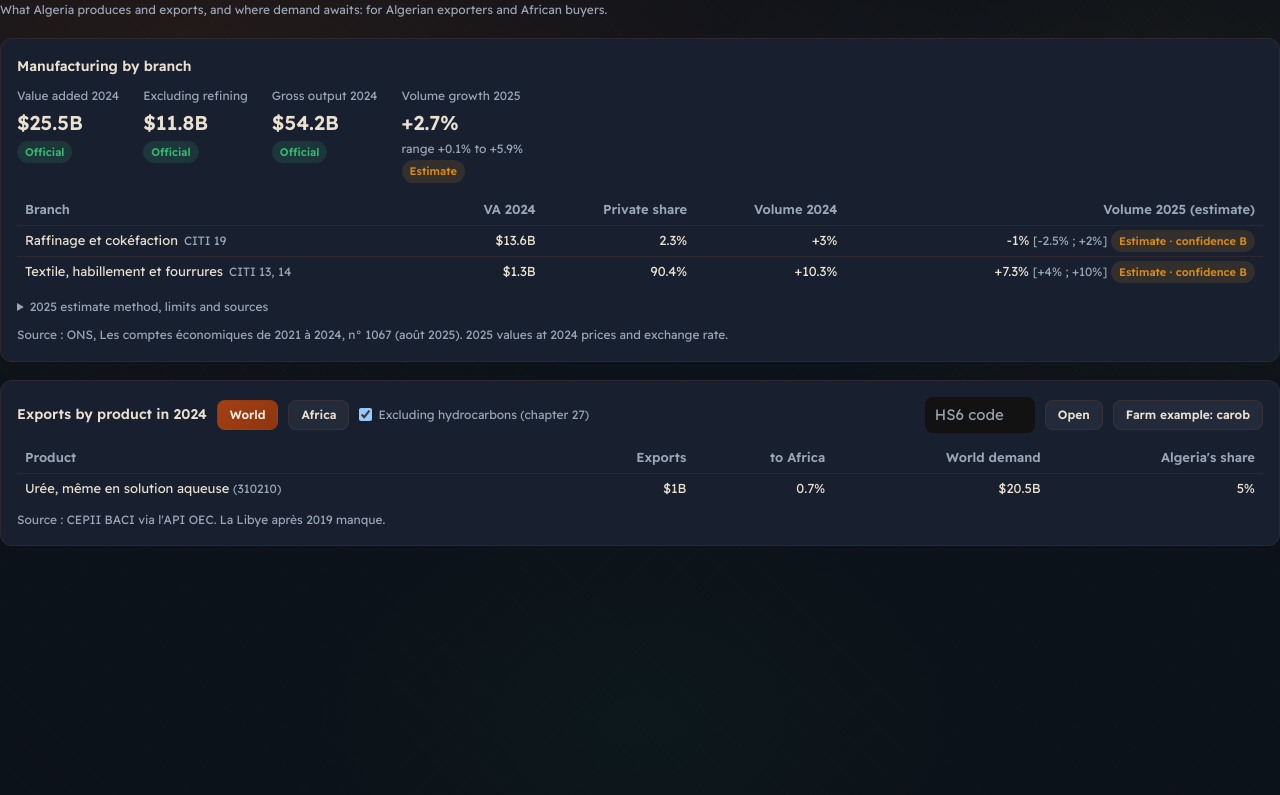
Scenario: NationalIndustryView › prévient le lecteur anglophone que le détail de la fiche filière est en français
The image size is (1280, 795).
Expected: the element with test id "dza-exportations" is shown, [0,380,1279,546]
Step 1. Click the button with test id "raccourci-caroube" → (1188, 415), box [1113,400,1263,430]
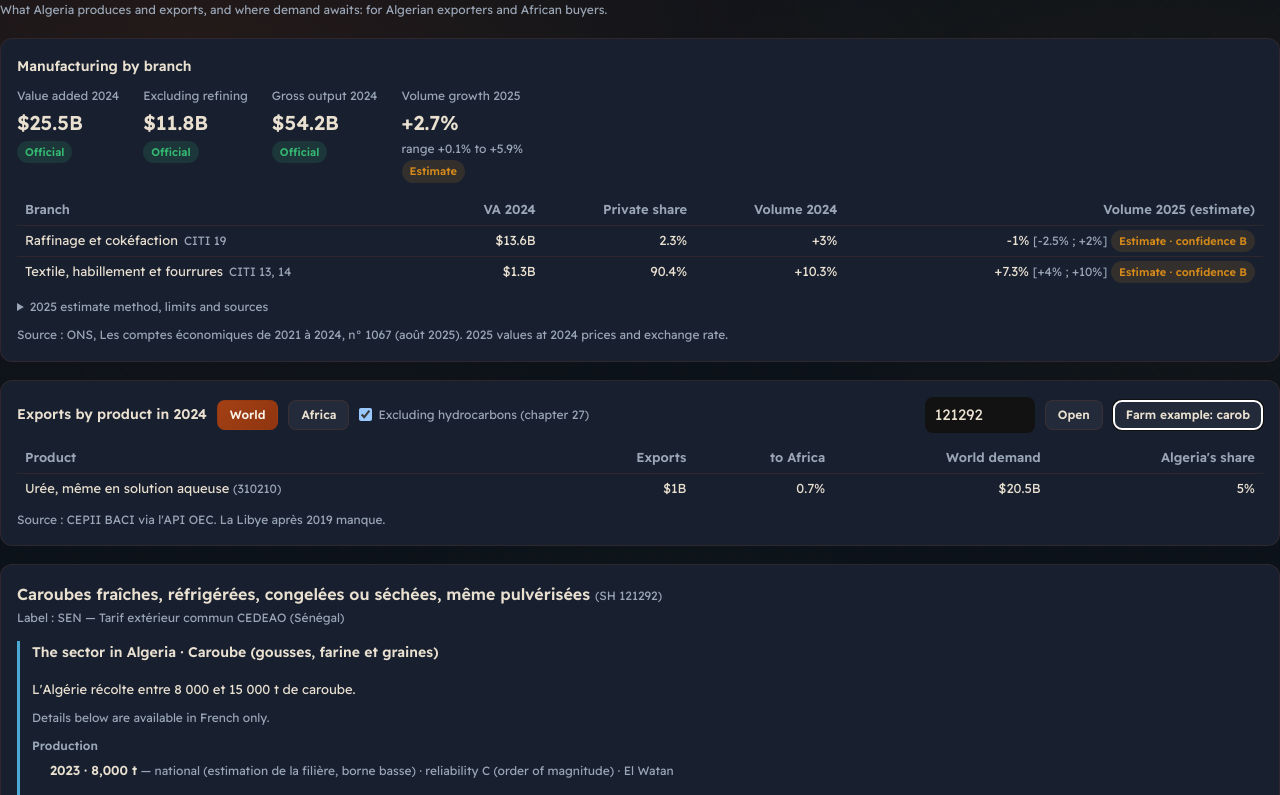
Expected: the element with test id "fiche-filiere" shows "The sector in Algeria", [32,643,176,661]
Expected: the text with test id "filiere-detail-fr" shows "available in French only", [32,710,269,725]
